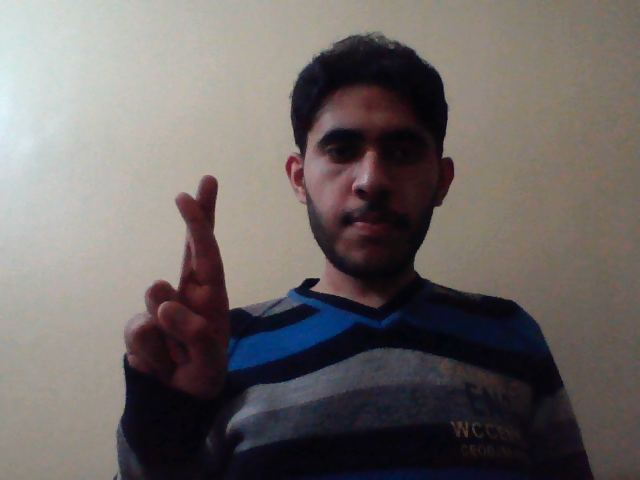R: (120, 168, 231, 405)
